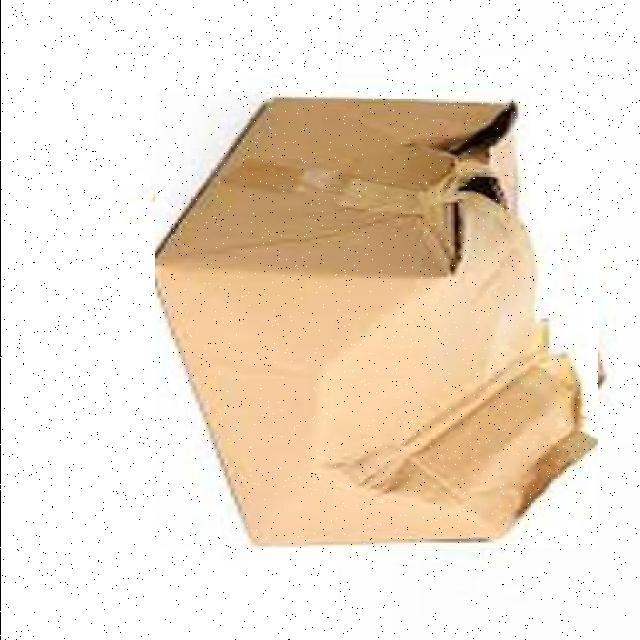defect: (154, 92, 597, 548)
